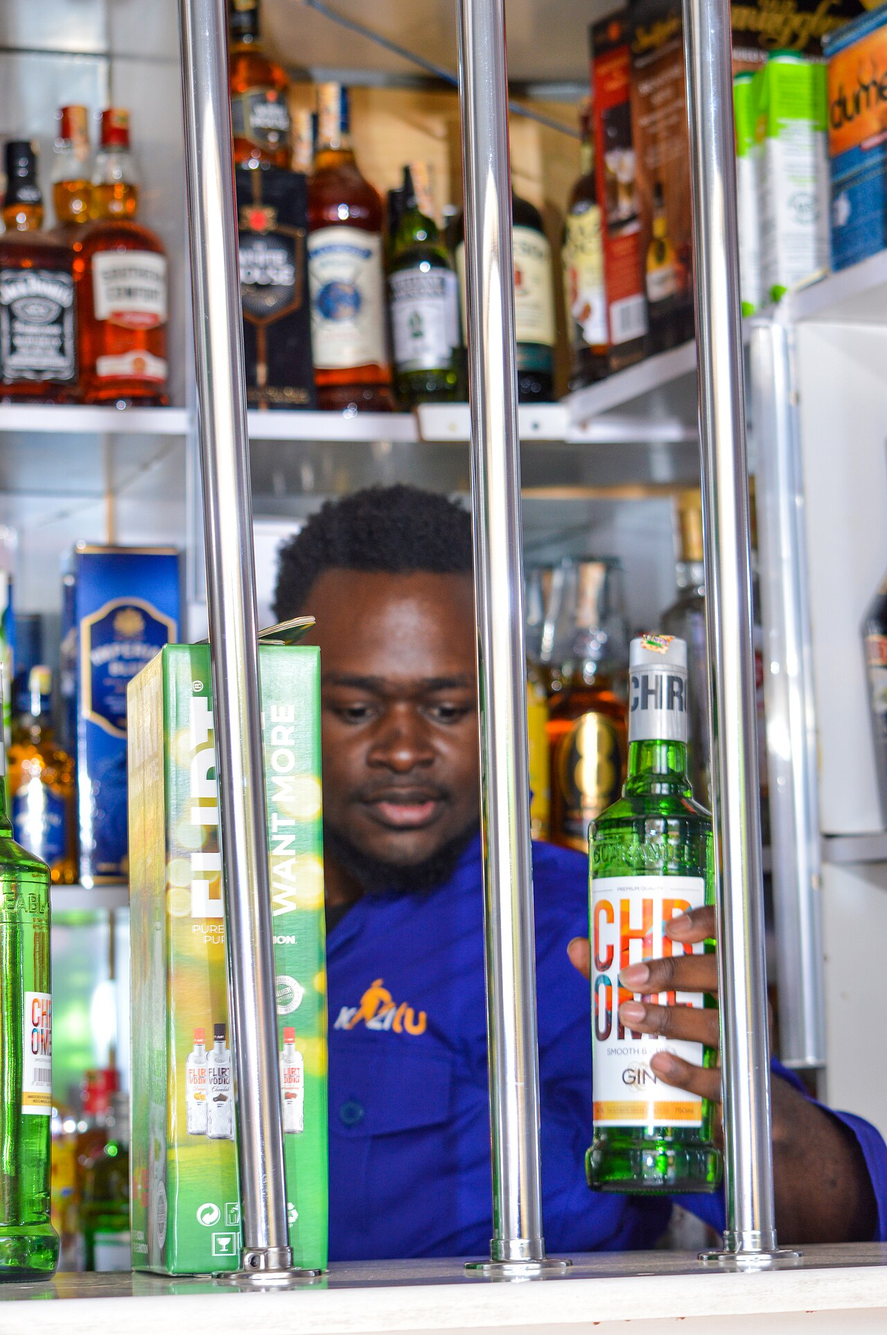jackdaniel: (1, 138, 80, 403)
unknown_bottle: (587, 630, 723, 1198), (228, 1, 313, 409), (70, 110, 170, 410), (306, 85, 395, 412), (1, 804, 59, 1286), (545, 558, 630, 854), (386, 162, 467, 407), (7, 665, 77, 885), (511, 192, 560, 403), (89, 107, 142, 223), (49, 103, 95, 230), (1, 139, 44, 234)
